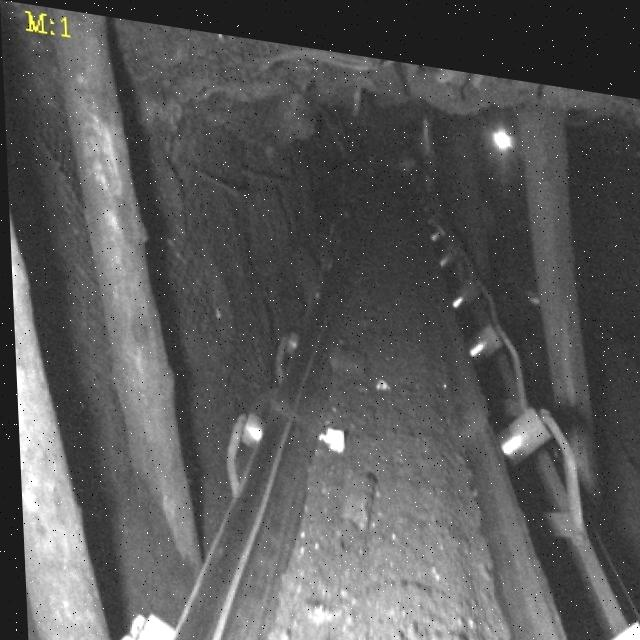bolt: (275, 593, 595, 640)
large_sized_coal: (329, 460, 383, 521), (327, 331, 369, 378)
